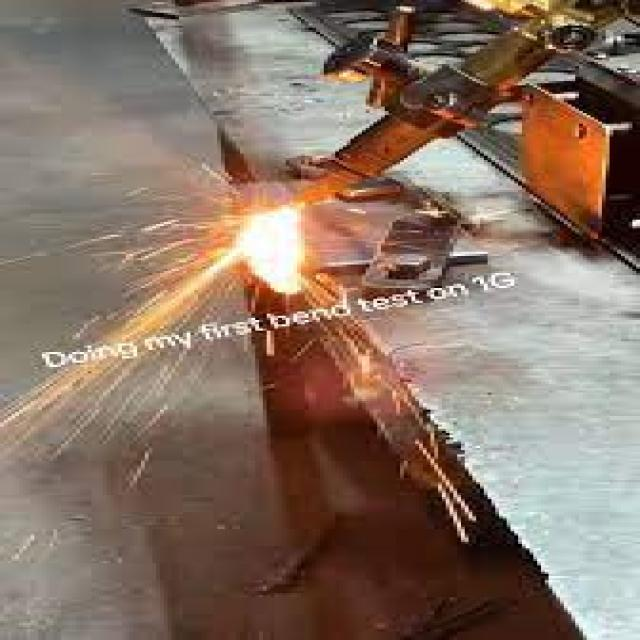fire: (237, 204, 302, 294)
